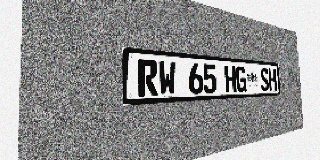5: (203, 64, 217, 94)
6: (188, 63, 204, 94)
G: (235, 66, 247, 92)
H: (224, 65, 236, 93), (268, 68, 277, 91)
R: (138, 59, 158, 97)
S: (260, 68, 269, 91)
W: (158, 60, 176, 96)
